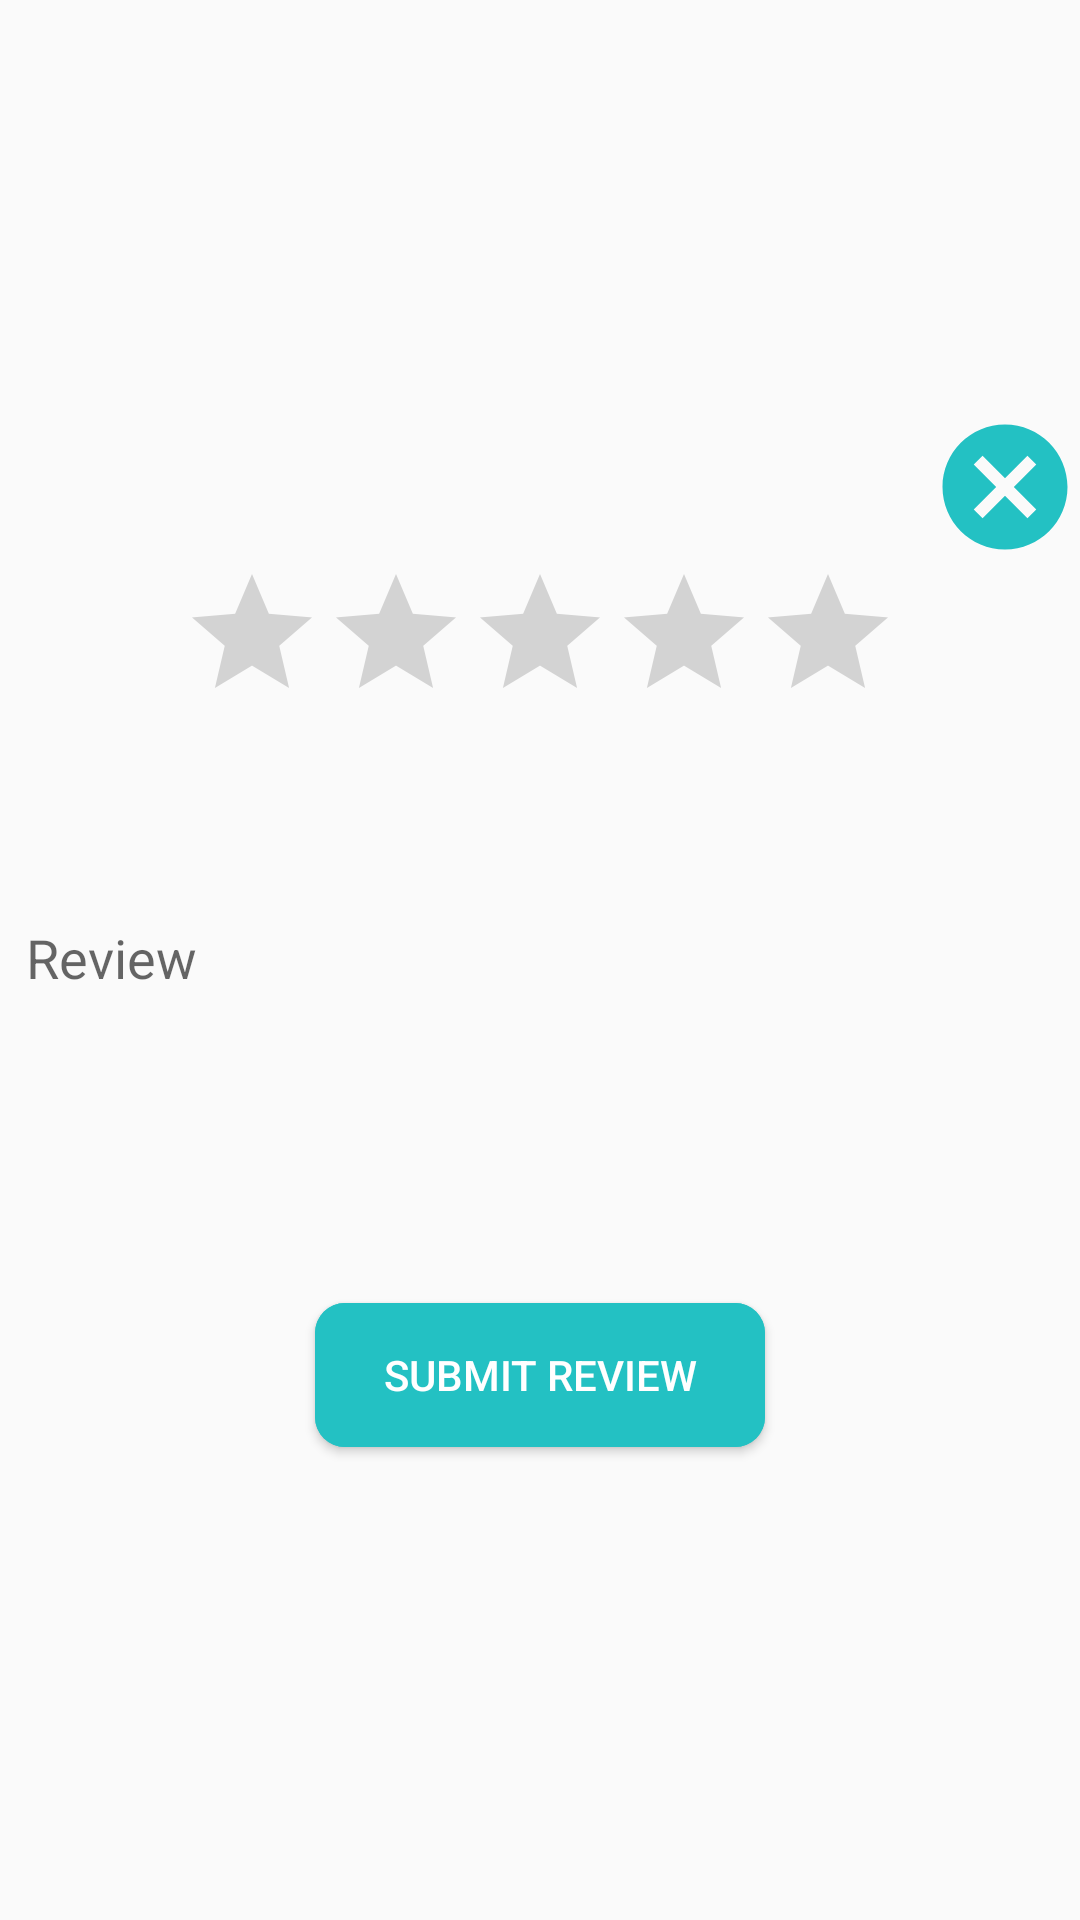

Where to tap for icons on this 1080px x 1920px app screen, as (x,y):
cancel: (1005,487)
